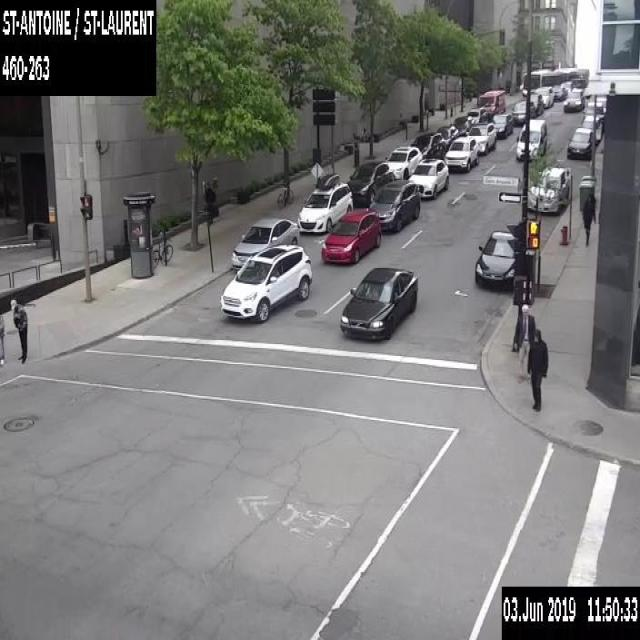bus: (521, 66, 578, 96)
pedestrian: (527, 328, 548, 410), (512, 303, 534, 380), (9, 299, 27, 364), (580, 193, 597, 246), (202, 179, 215, 225), (0, 310, 5, 365)
vehicle: (220, 243, 312, 320), (339, 264, 417, 339), (231, 217, 298, 272), (296, 172, 352, 234), (321, 208, 380, 263), (368, 179, 420, 231), (474, 228, 516, 288), (346, 160, 394, 208), (528, 164, 570, 213), (408, 157, 448, 198), (515, 118, 547, 160), (385, 145, 422, 179), (444, 135, 478, 170), (465, 121, 495, 155), (410, 132, 445, 159), (566, 126, 592, 159), (480, 88, 505, 115), (562, 87, 584, 112), (512, 99, 534, 124), (491, 112, 513, 137), (581, 114, 602, 140), (452, 114, 476, 135), (582, 101, 605, 121), (535, 84, 553, 107), (467, 107, 488, 126), (436, 125, 458, 142), (530, 92, 542, 114), (552, 84, 566, 100), (560, 80, 574, 94)
